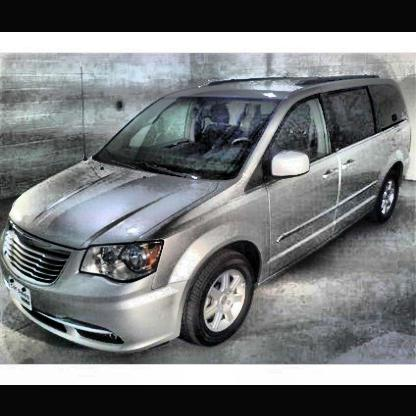Chrysler Town and Country Minivan 2012: (3, 75, 415, 361)
